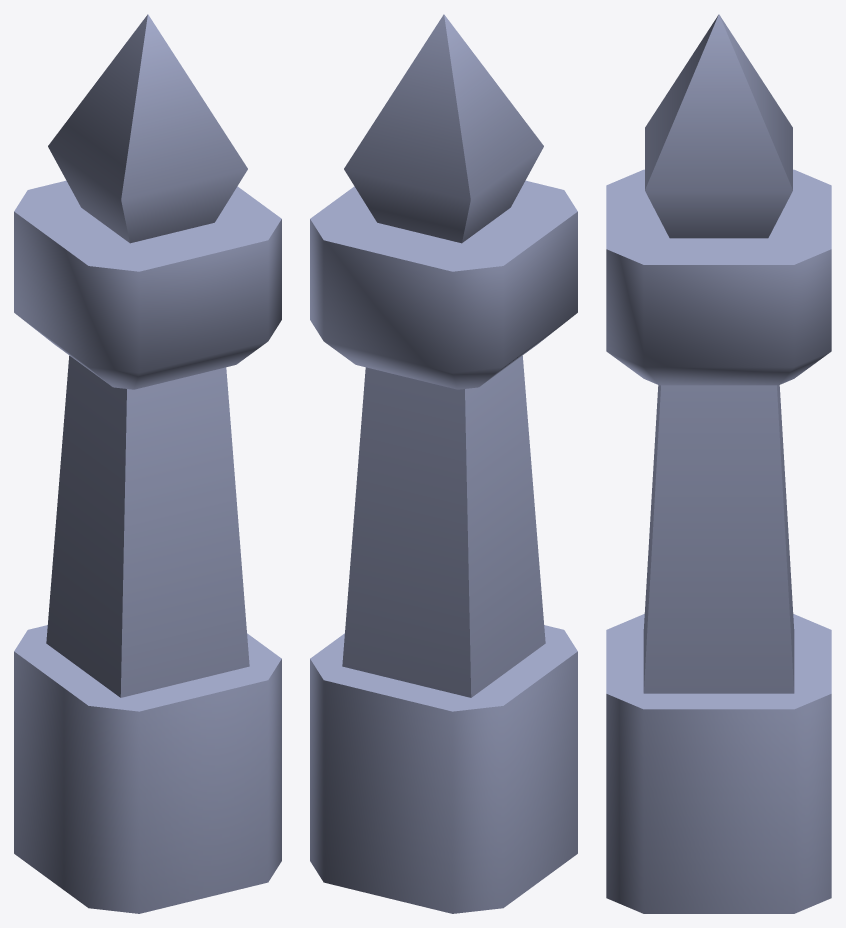
File: pillar-small.glb
3 renders of one model, left to right at view 1: azimuth 30°, elevation 25°; view 2: azimuth 150°, elevation 25°; view 3: azimuth 270°, elevation 25°, orthographic.
Parts seen in each view (by area): view 1: pillar-small; view 2: pillar-small; view 3: pillar-small.
Part boxes in pixels (x1,y1,x2,y2): pillar-small: (14,14,281,913); pillar-small: (310,14,577,913); pillar-small: (606,14,831,913).
Size of the model in its own units: 0.1815 by 0.7564 by 0.1815.
Materials: 1 (1 with a texture image).
